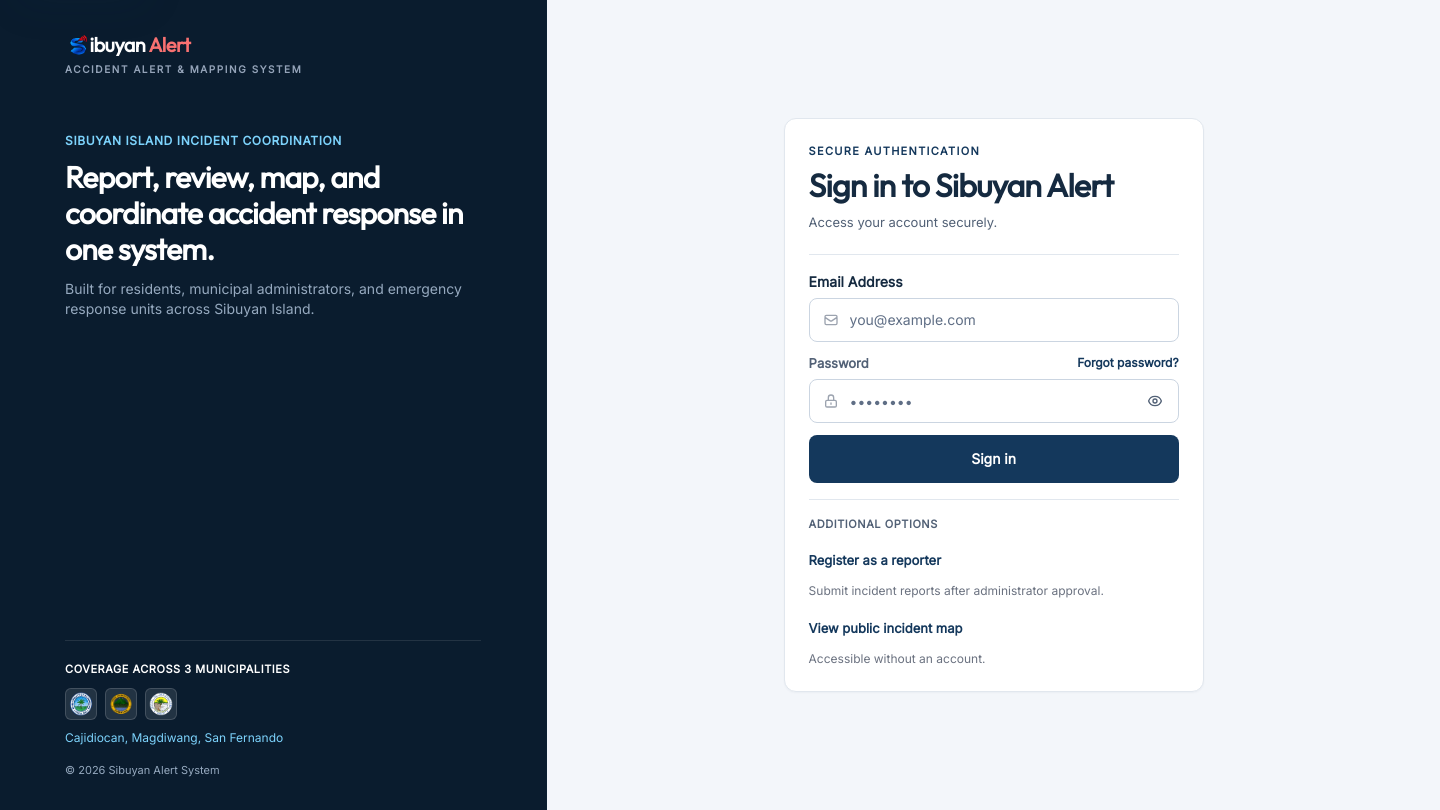
Test case: LoginPage system-accurate content › preserves forgot-password and password-visibility controls
The width and height of the screenshot is (1440, 810).
Click the button named "Show password".
click(1155, 401)  # box x1=1135 y1=381 x2=1175 y2=421
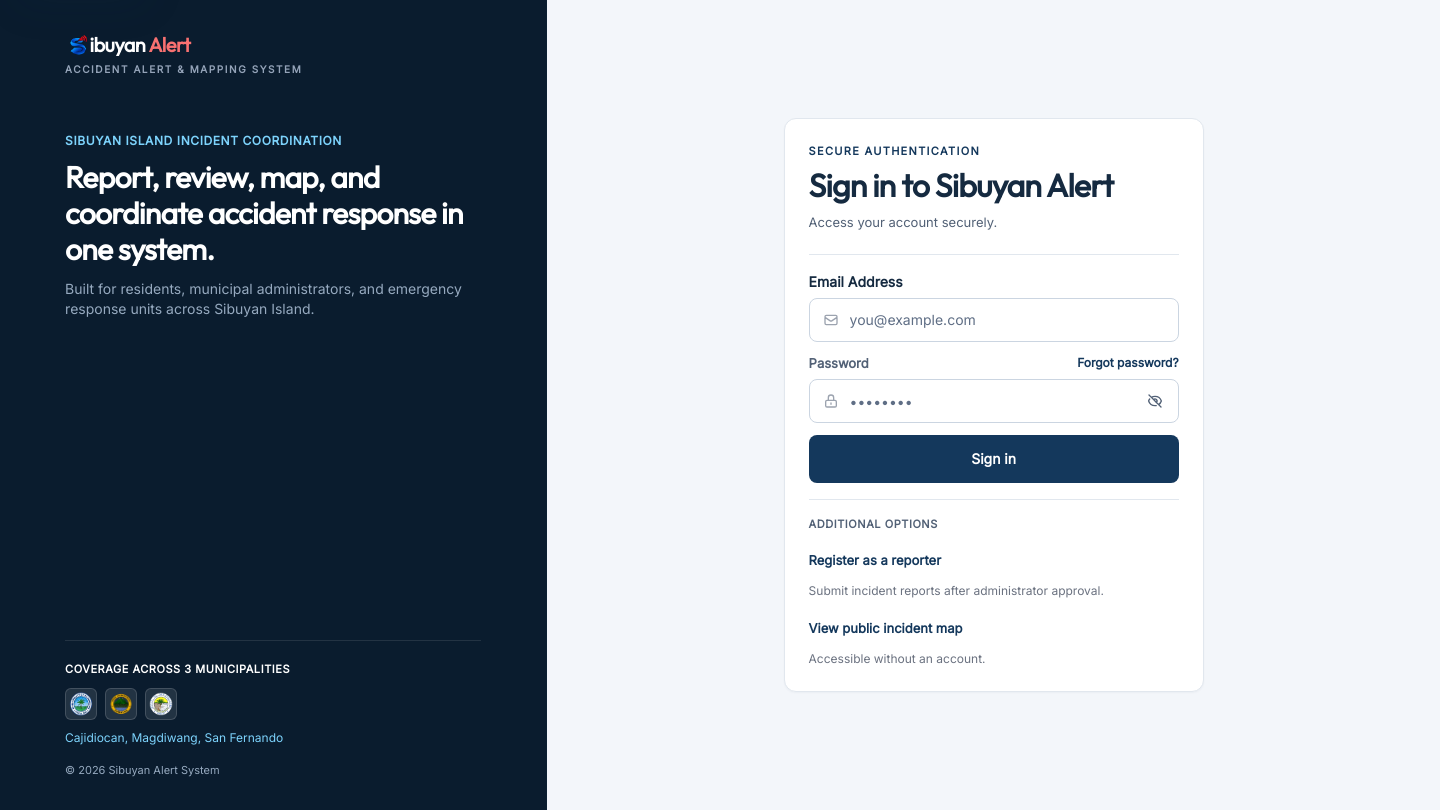
Result: the button named "Hide password" is shown at x1=1135 y1=381 x2=1175 y2=421
